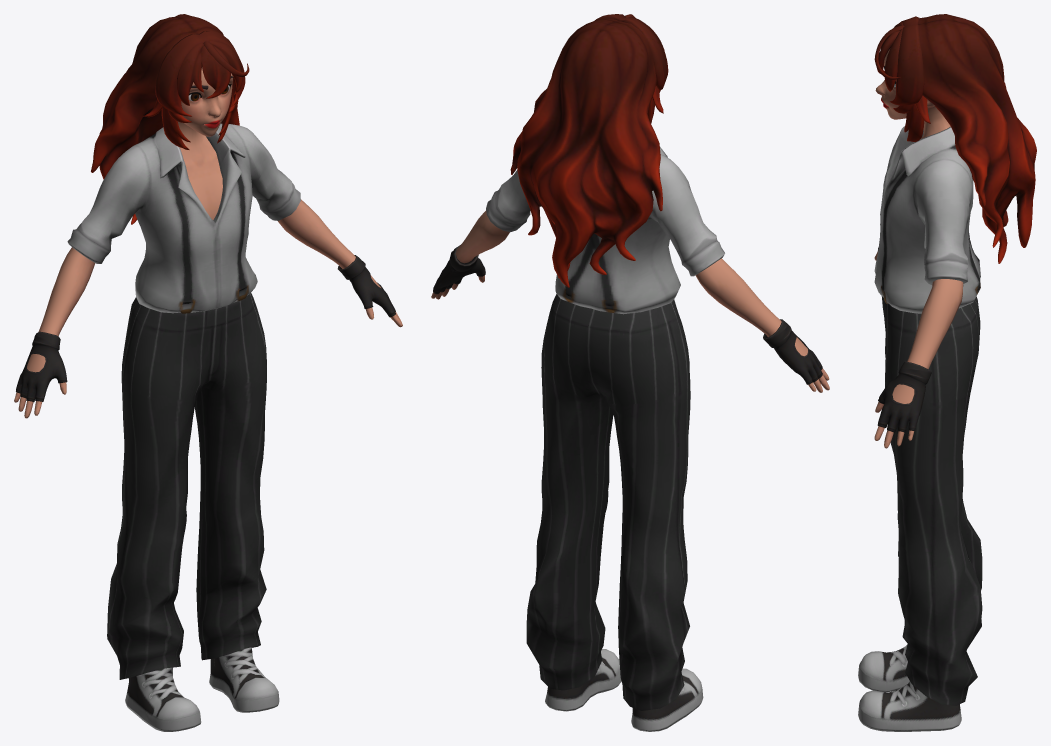
File: StaffMisszy_Mesh.obj
3 views of the same model, side by side, from view 1: azimuth 30°, elevation 25°; view 2: azimuth 150°, elevation 25°; view 3: azimuth 270°, elevation 25° (orthographic). The views are drawn at different scales.
Parts seen in each view (by area): view 1: StaffMisszy_Mesh_0; view 2: StaffMisszy_Mesh_0; view 3: StaffMisszy_Mesh_0.
Part boxes in pixels (left/top/right/bottom): StaffMisszy_Mesh_0: left=14, top=14, right=402, bottom=731; StaffMisszy_Mesh_0: left=431, top=14, right=829, bottom=731; StaffMisszy_Mesh_0: left=858, top=14, right=1036, bottom=731.
Size of the model in its own units: 1.06 by 1.8 by 0.4266.
Materials: 1 (1 with a texture image).
